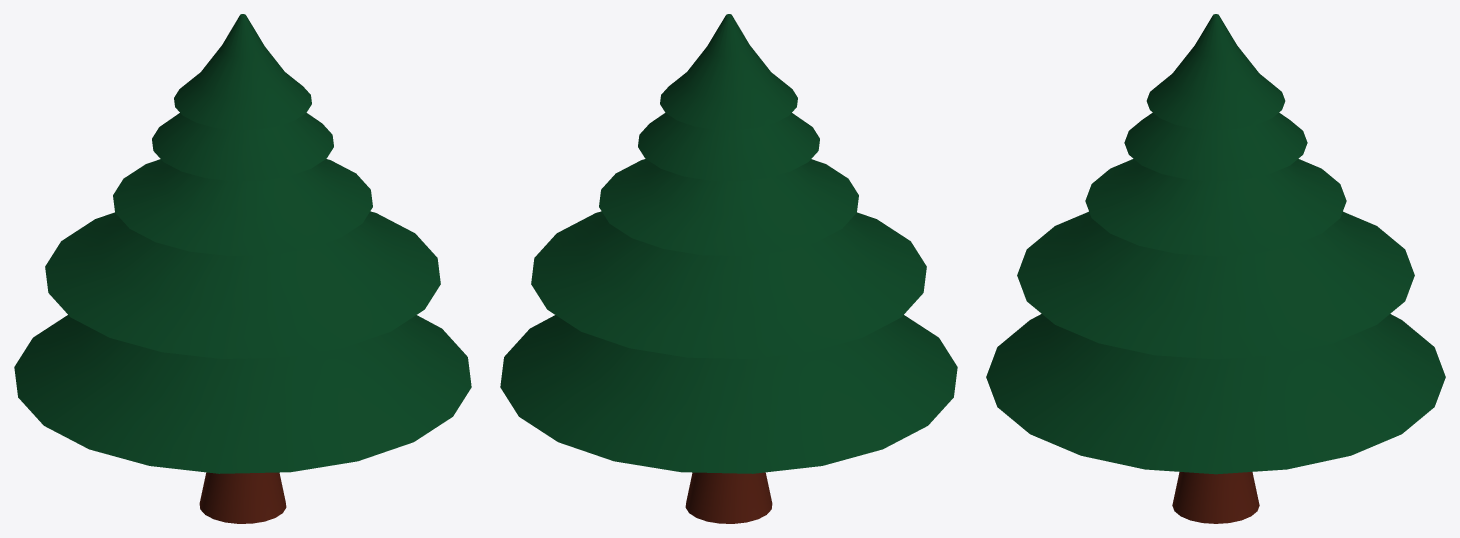
The model's file is fieldFBX.fbx.
3 renders of one model, left to right at view 1: azimuth 30°, elevation 25°; view 2: azimuth 150°, elevation 25°; view 3: azimuth 270°, elevation 25°, orthographic.
Parts seen in each view (by area): view 1: tree_mesh; view 2: tree_mesh; view 3: tree_mesh.
Part boxes in pixels (x1,y1,x2,y2): tree_mesh: (14, 14, 471, 523); tree_mesh: (500, 14, 957, 523); tree_mesh: (986, 14, 1445, 523).
Size of what is drawn, in the model's own units: 2.99 by 3.52 by 2.99.
